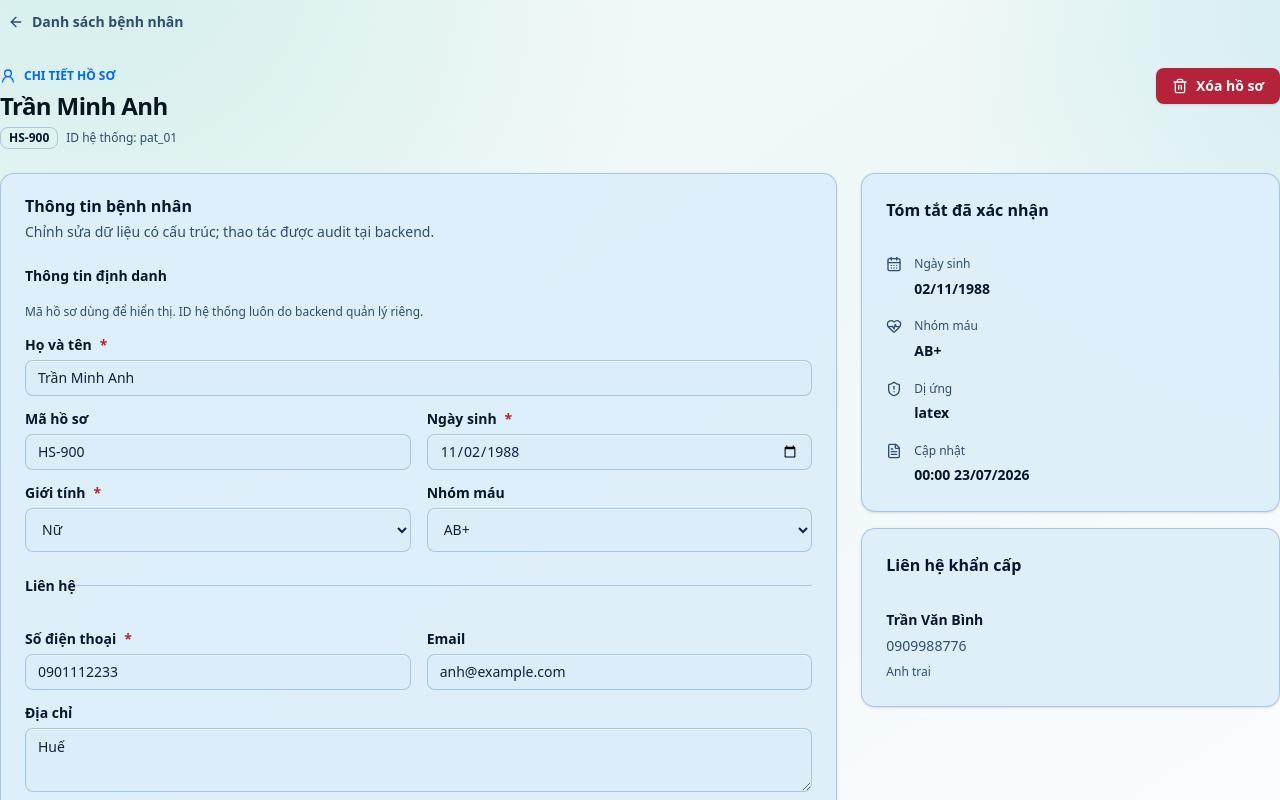
Test: patient portal pages › saves and deletes only by canonical id with stable retry keys
The image size is (1280, 800).
Replace the text in the field labelled "Họ và tên *" with "Trần Minh Anh mới". click: (419, 378)
box: [25,360,812,396]
(page scrolled)
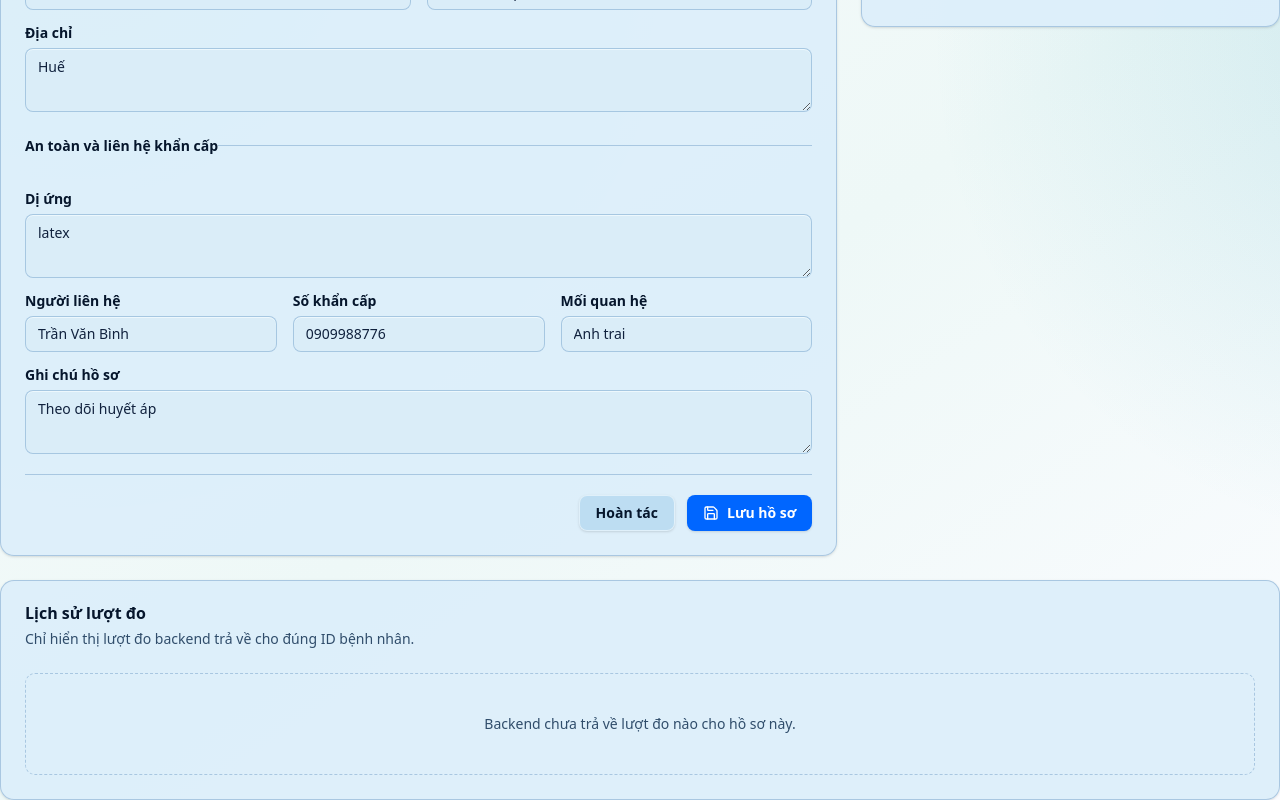
Click the button "Lưu hồ sơ". click: (750, 513)
box: [687,495,812,531]
(page scrolled)
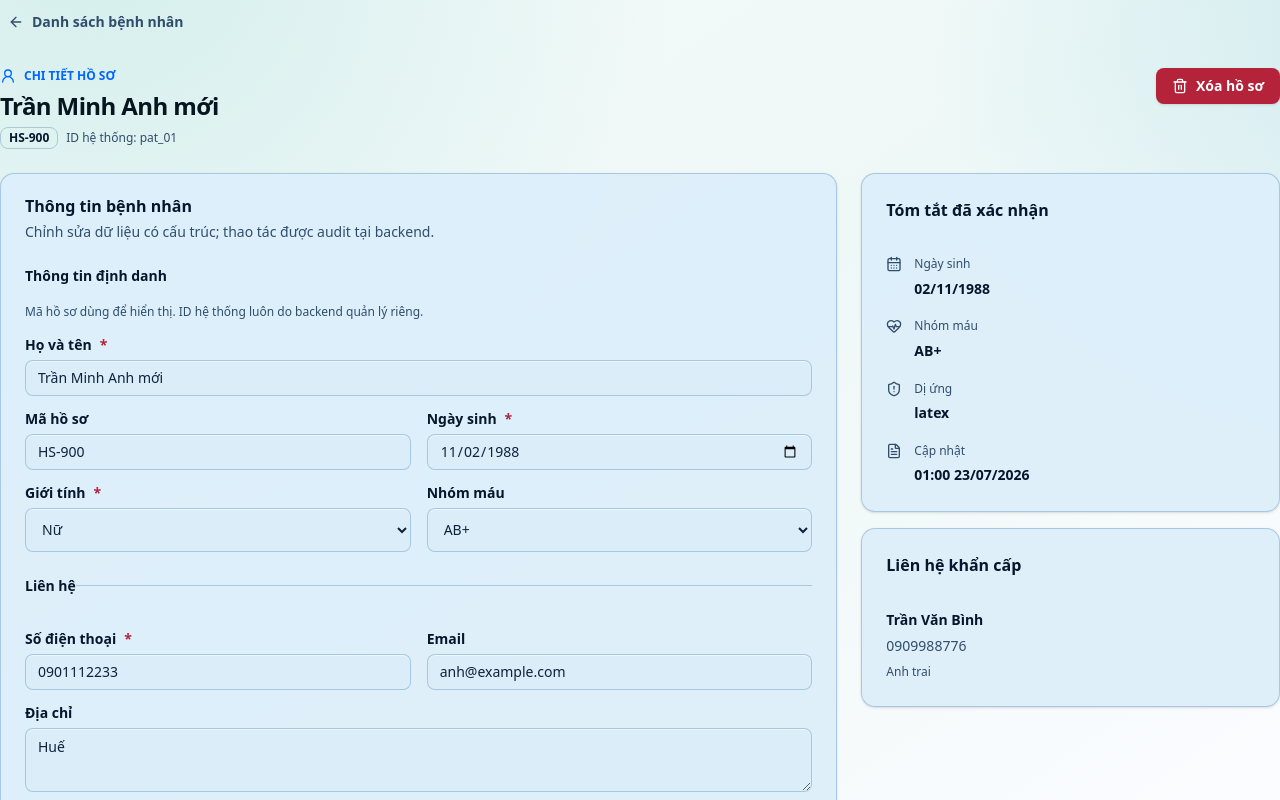
Click the button "Xóa hồ sơ". click: (1218, 86)
box: [1156,68,1279,104]
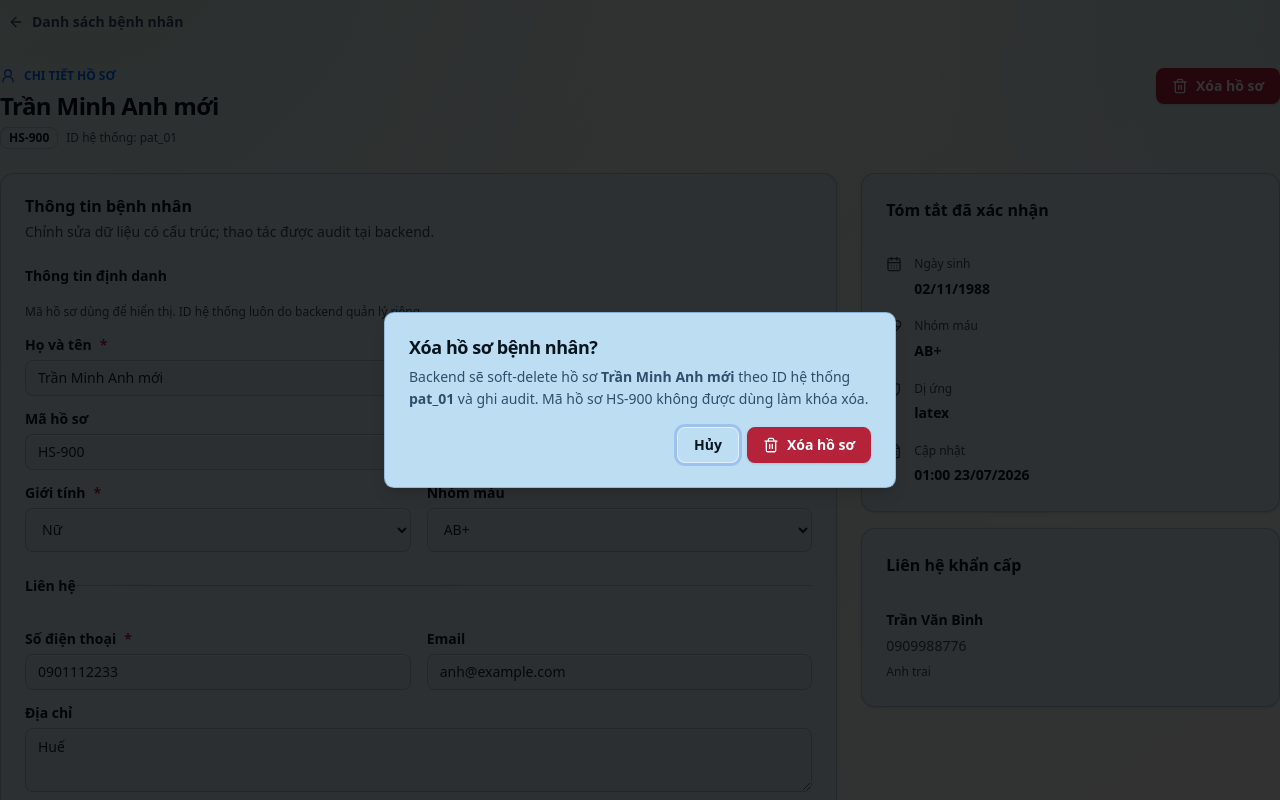
Click the button "Xóa hồ sơ". click: (809, 445)
box: [747,427,871,463]
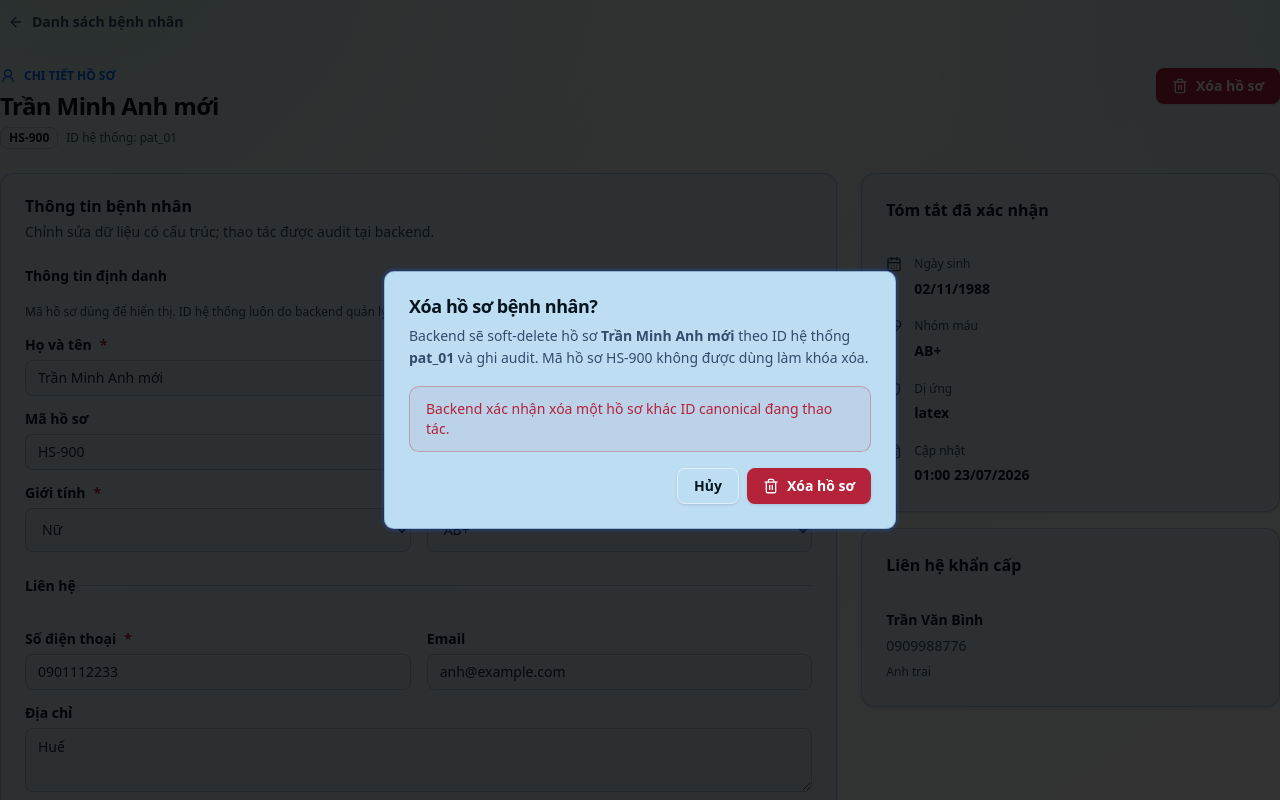
Expected: the text "Backend xác nhận xóa một hồ sơ khác ID canonical đang thao tác." is shown, [409,386,871,452]
Click the button "Xóa hồ sơ". click: (809, 486)
box: [747,468,871,504]
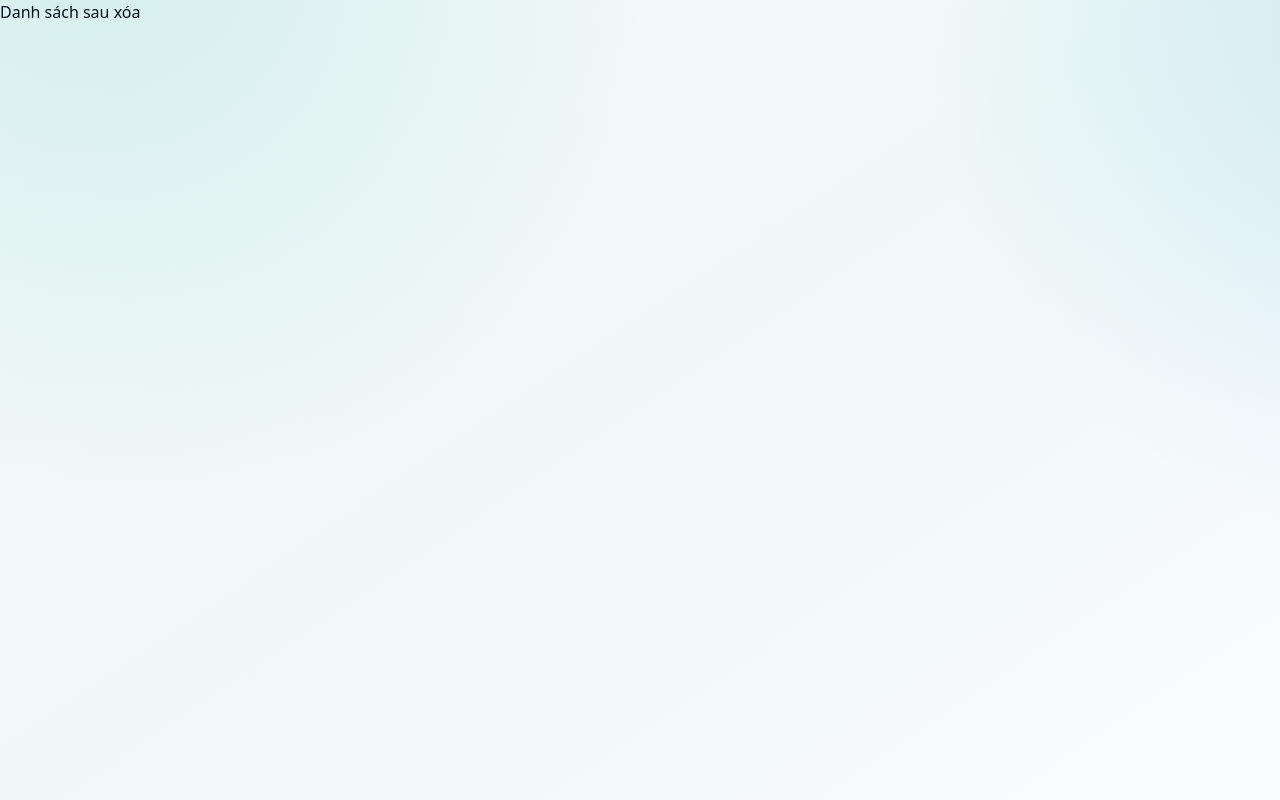
Expected: the text "Danh sách sau xóa" is shown, [0,1,140,23]
